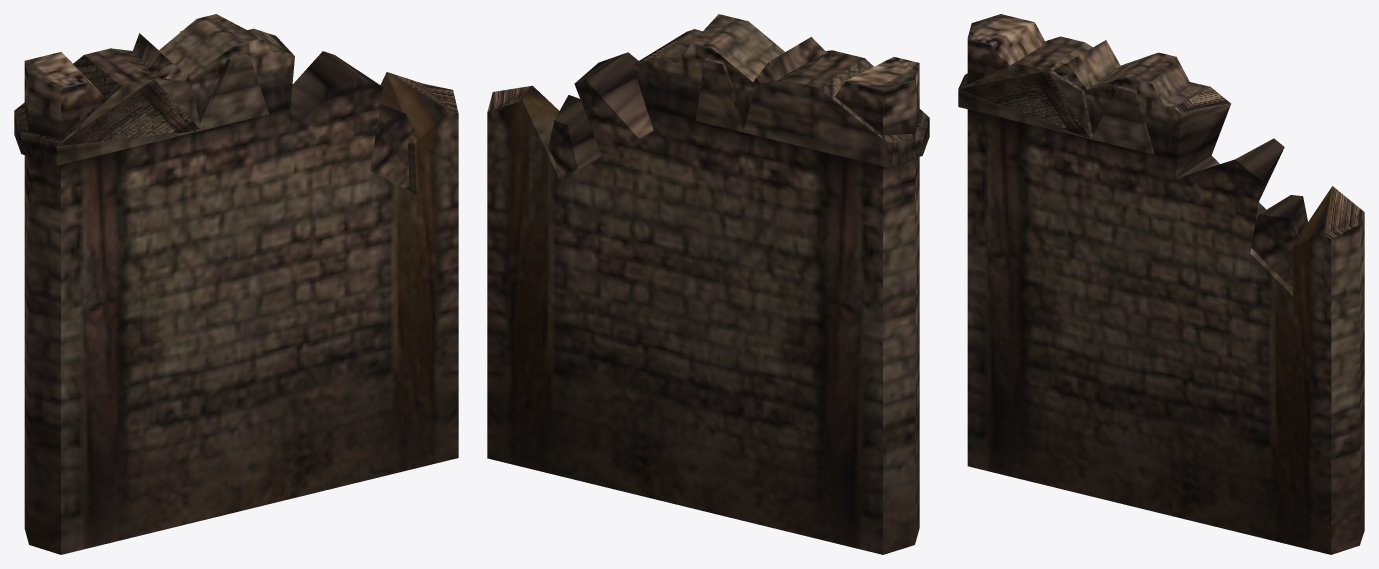
3 renders of one model, left to right at view 1: azimuth 30°, elevation 25°; view 2: azimuth 150°, elevation 25°; view 3: azimuth 330°, elevation 25°, orthographic. The views are drawn at different scales.
Visible parts, largest first — view 1: wj03; view 2: wj03; view 3: wj03.
Boxes of the visible parts, x1,y1,x2,y2 form: wj03: [14, 14, 458, 554]; wj03: [487, 14, 929, 554]; wj03: [958, 14, 1364, 554].
Size of the model in its own units: 758 by 784 by 128.
